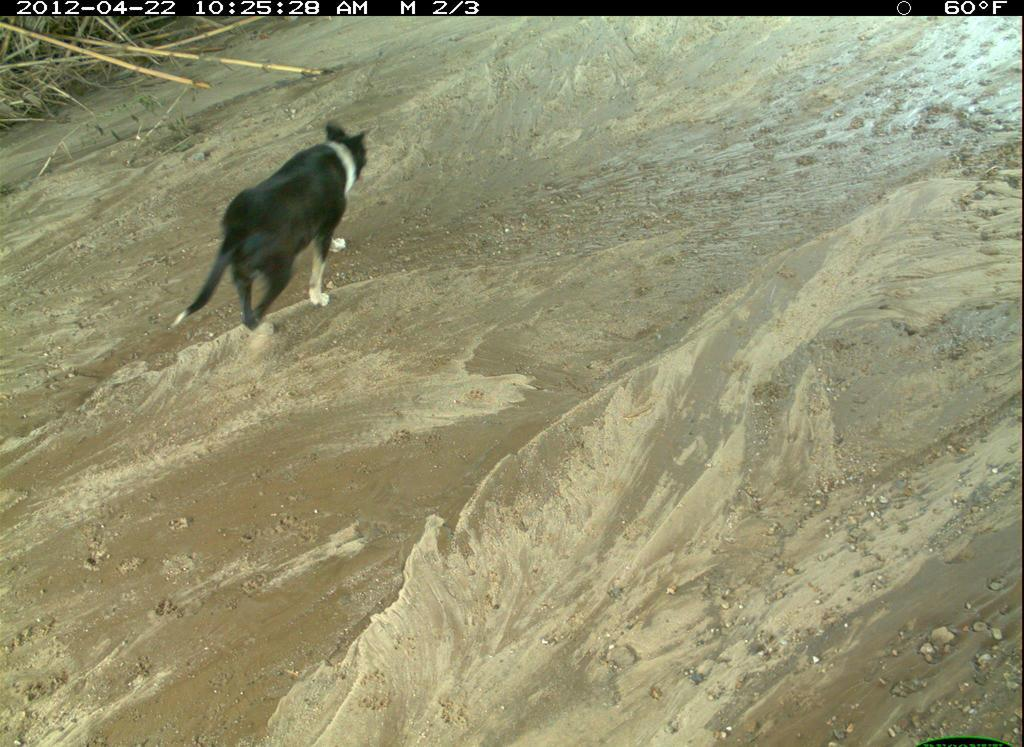dog: (334, 235, 751, 694)
